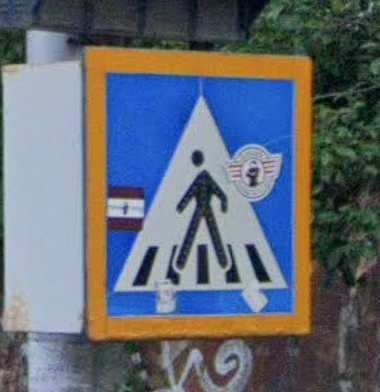trecere_pietoni: (77, 43, 317, 346)
